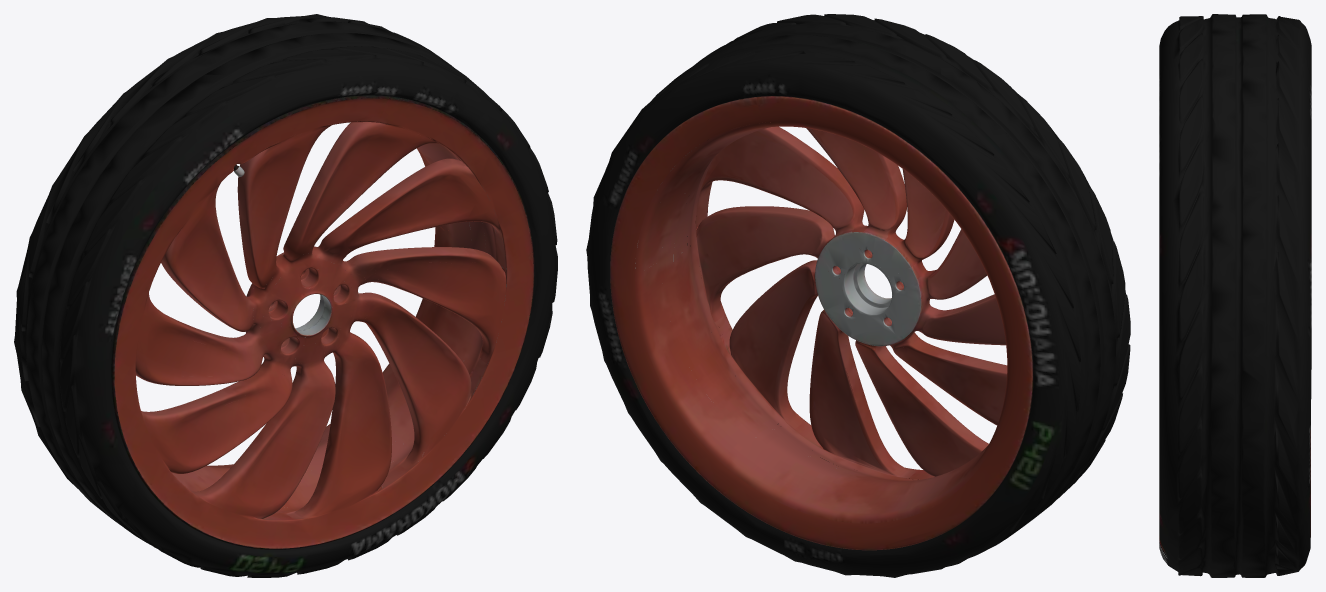
The model's file is smokehaus-racing-turbine-m2-alloy--800149.glb.
The picture shows the model from 3 angles, left to right: view 1: azimuth 30°, elevation 25°; view 2: azimuth 150°, elevation 25°; view 3: azimuth 270°, elevation 25°; orthographic projection.
Parts seen in each view (by area): view 1: defaultMaterial (×2); view 2: defaultMaterial (×2); view 3: defaultMaterial.
Boxes of the visible parts, bbox=[...] form: defaultMaterial (×2): bbox=[14, 14, 557, 577]; defaultMaterial (×2): bbox=[586, 14, 1130, 577]; defaultMaterial: bbox=[1159, 14, 1311, 577].
Size of the model in its own units: 0.6796 by 0.6799 by 0.1839.
2 materials, 2 textured.
